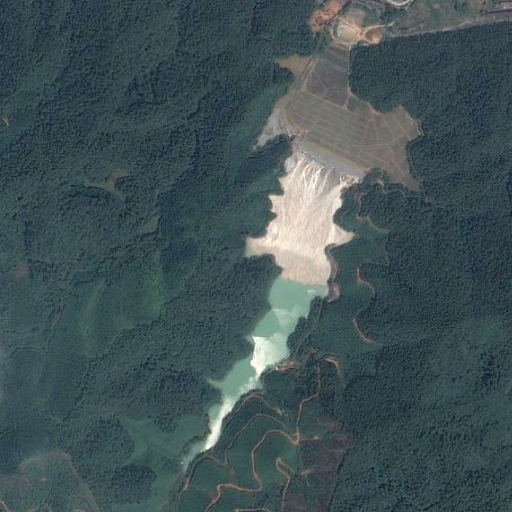tp: (201, 41, 424, 453)
